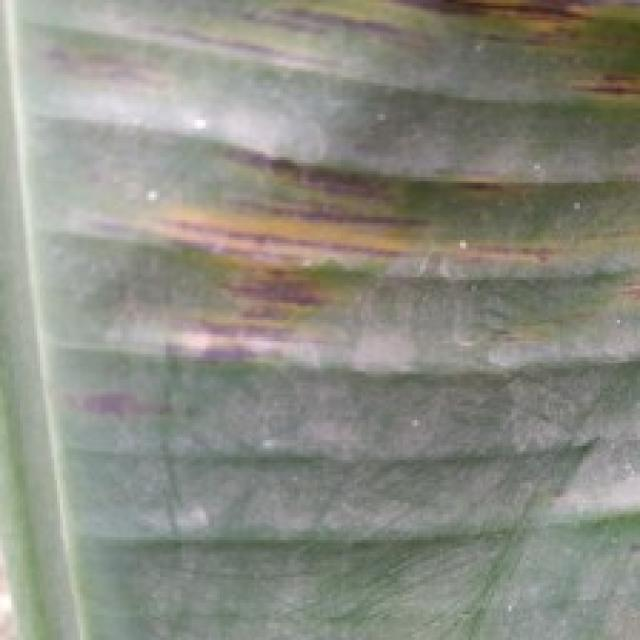Early_leaf_spot: (132, 120, 583, 314), (232, 0, 637, 120), (137, 288, 341, 394), (24, 7, 155, 99)
